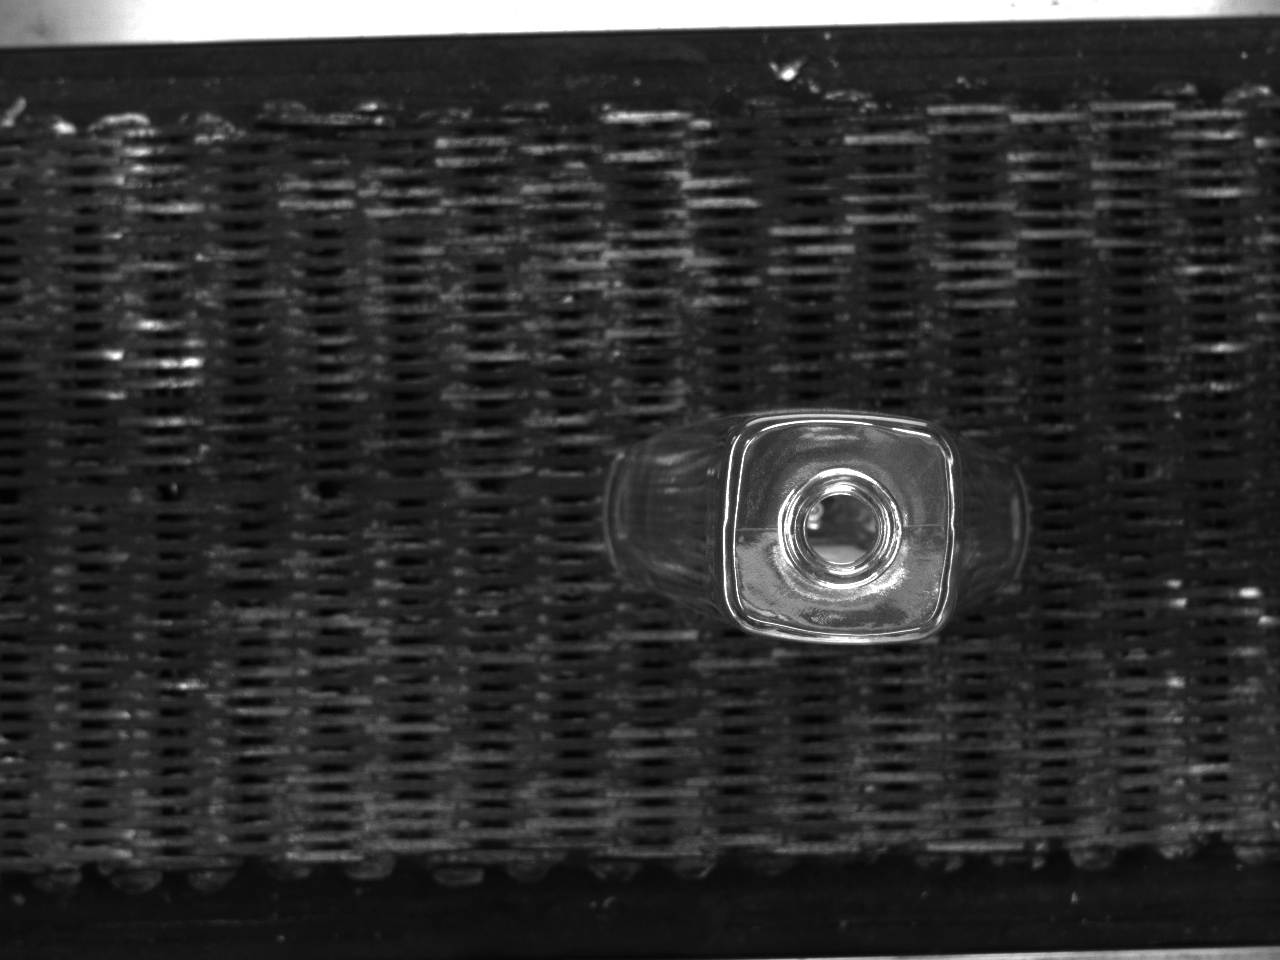bottleneck: (785, 467, 901, 589)
